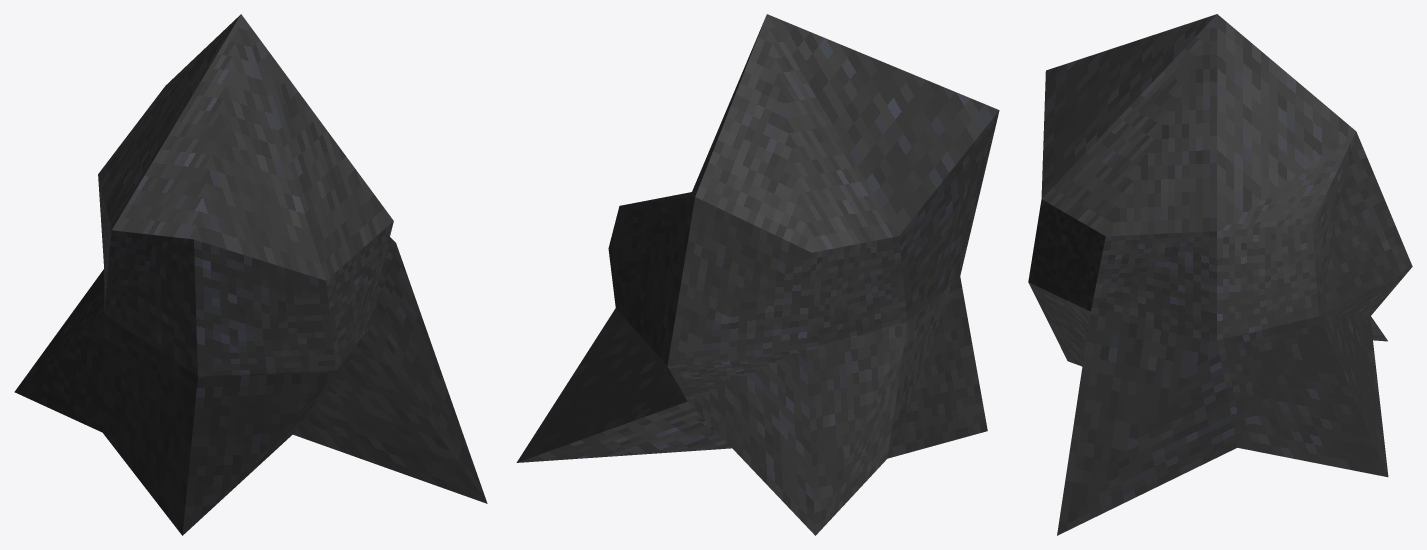
File: rock02.glb
3 renders of one model, left to right at view 1: azimuth 30°, elevation 25°; view 2: azimuth 150°, elevation 25°; view 3: azimuth 270°, elevation 25°, orthographic. The views are drawn at different scales.
Parts seen in each view (by area): view 1: Cube; view 2: Cube; view 3: Cube.
Part boxes in pixels (x1,y1,x2,y2): Cube: (14, 14, 487, 535); Cube: (516, 14, 999, 535); Cube: (1028, 14, 1412, 535).
Size of the model in its own units: 3.19 by 4.76 by 3.72.
Materials: 1 (1 with a texture image).
